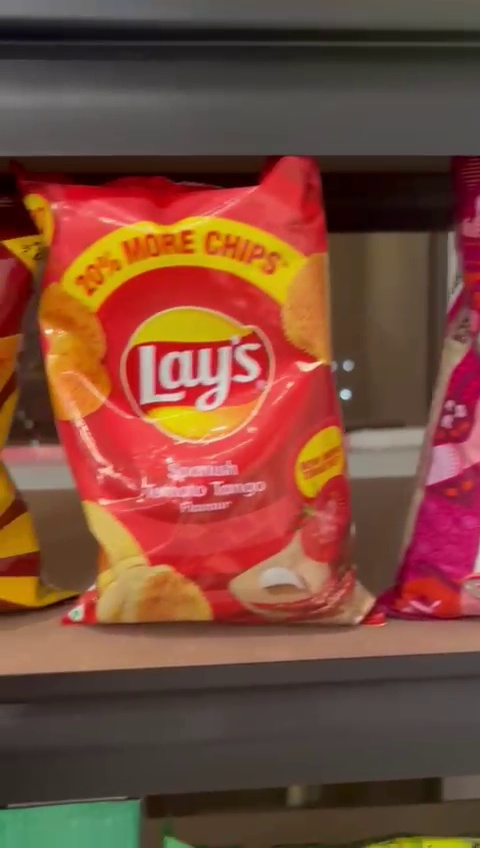Lays: (30, 166, 370, 625)
